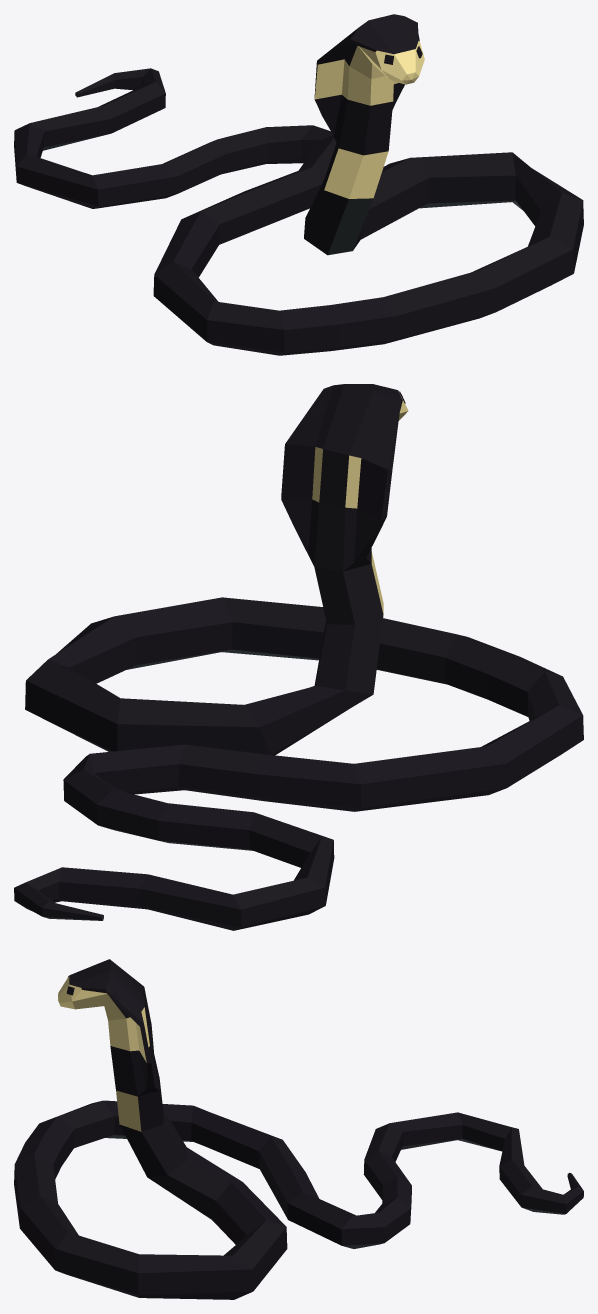
Rendered from Mesh_Cobra.obj.
3 renders of one model, top to bottom at view 1: azimuth 30°, elevation 25°; view 2: azimuth 150°, elevation 25°; view 3: azimuth 270°, elevation 25°, orthographic. The views are drawn at different scales.
Parts seen in each view (by area): view 1: Geo_Cobra; view 2: Geo_Cobra; view 3: Geo_Cobra.
Part boxes in pixels (x1,y1,x2,y2): Geo_Cobra: (14,14,583,355); Geo_Cobra: (14,384,583,930); Geo_Cobra: (14,959,583,1299).
Size of the model in its own units: 42.61 by 28.85 by 59.77.
Materials: 1 (1 with a texture image).
